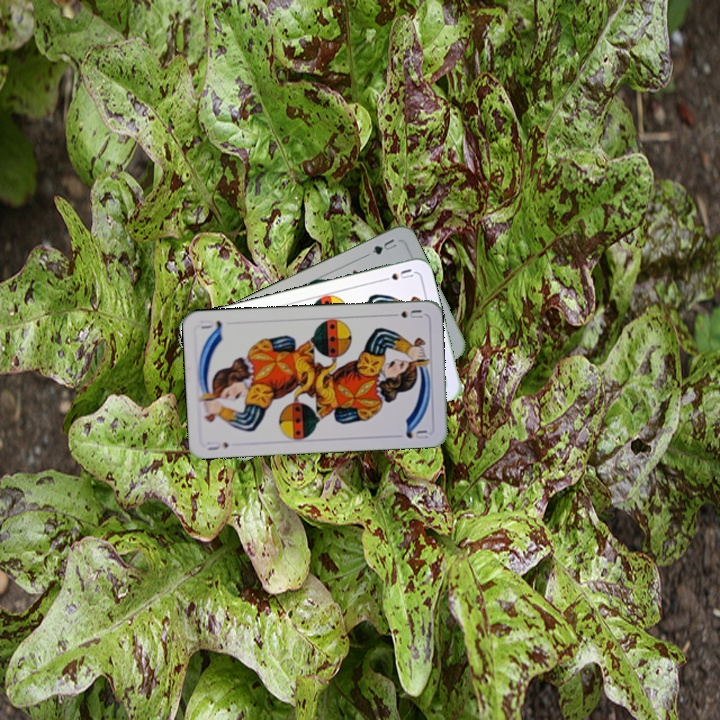GU: (368, 234, 399, 257)
SU: (376, 265, 416, 284), (385, 306, 425, 321), (203, 437, 231, 453)
